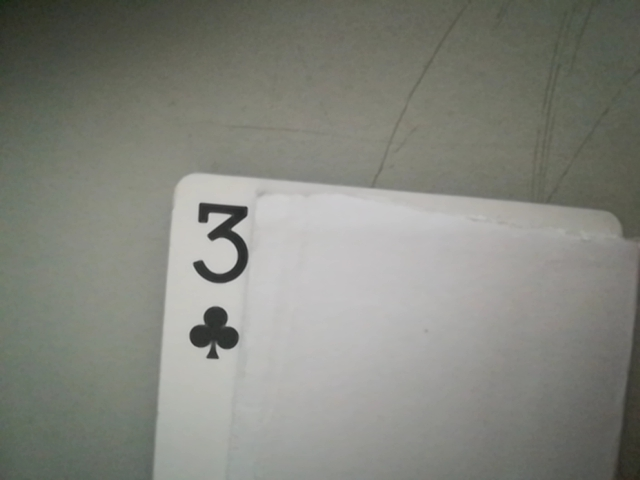mh 3: (176, 193, 262, 364)
